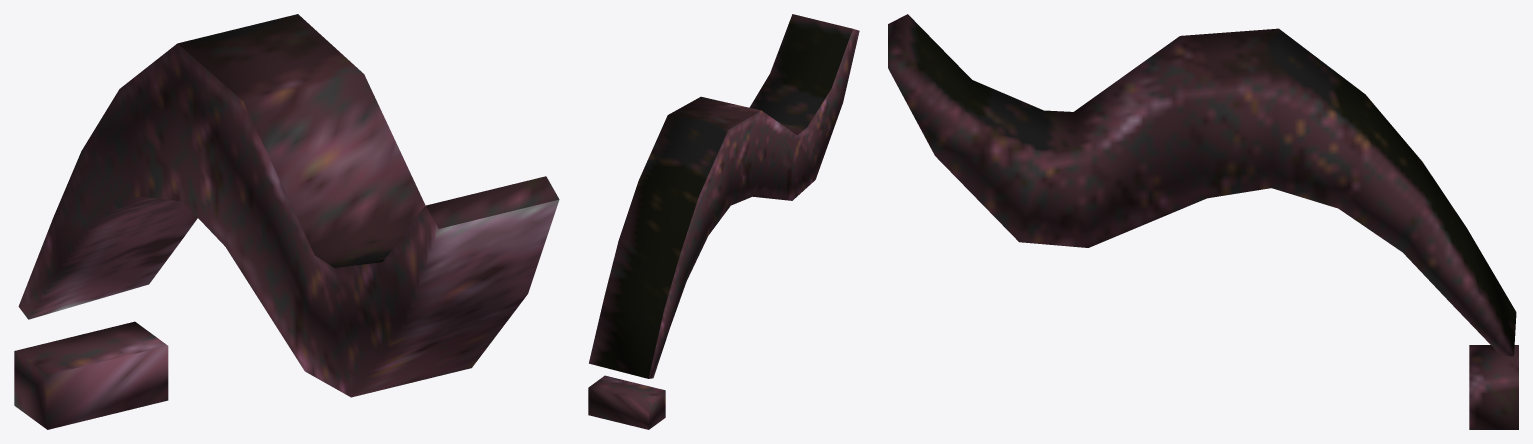
Rendered from end3.gltf.
3 renders of one model, left to right at view 1: azimuth 30°, elevation 25°; view 2: azimuth 150°, elevation 25°; view 3: azimuth 270°, elevation 25°, orthographic. The views are drawn at different scales.
Visible parts, largest first — view 1: mesh0_noesis_meshnode_0000; view 2: mesh0_noesis_meshnode_0000; view 3: mesh0_noesis_meshnode_0000.
Part boxes in pixels (x1=…): mesh0_noesis_meshnode_0000: x1=14, y1=14, x2=559, y2=429; mesh0_noesis_meshnode_0000: x1=588, y1=14, x2=859, y2=429; mesh0_noesis_meshnode_0000: x1=888, y1=14, x2=1518, y2=429.
Size of the model in its own units: 4.07 by 15.77 by 24.19.
Materials: 1 (1 with a texture image).
